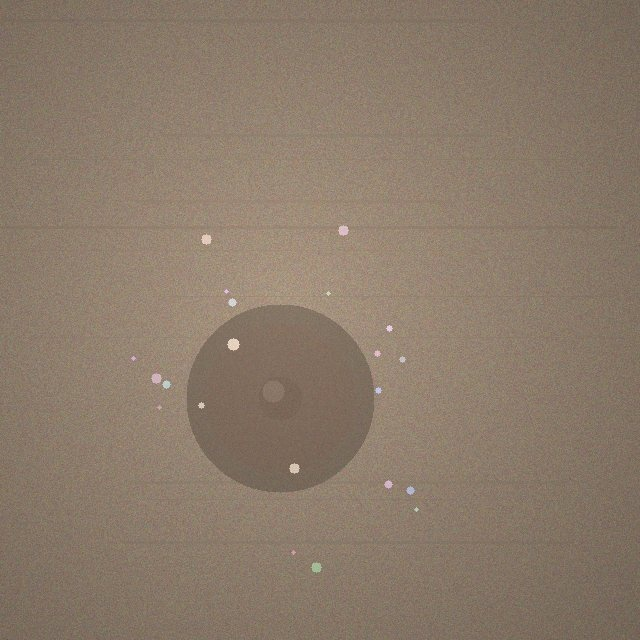overburn: (186, 304, 374, 492)
